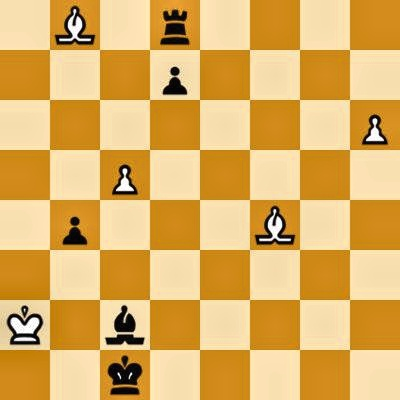black-bishop: (100, 300, 150, 350)
black-king: (100, 350, 150, 400)
black-pawn: (150, 50, 200, 100), (50, 200, 100, 250)
black-rook: (150, 0, 200, 50)
white-bishop: (50, 0, 100, 50), (250, 200, 300, 250)
white-king: (0, 300, 50, 350)
white-pawn: (350, 100, 400, 150), (100, 150, 150, 200)
